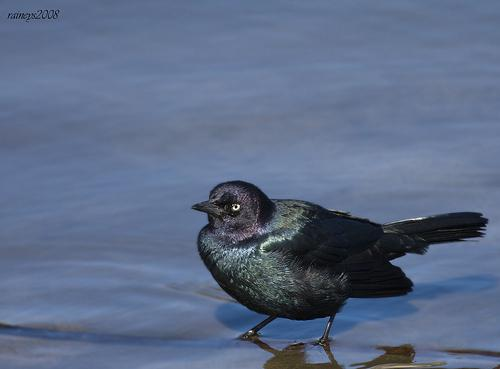009.Brewer_Blackbird: (192, 179, 489, 349)
